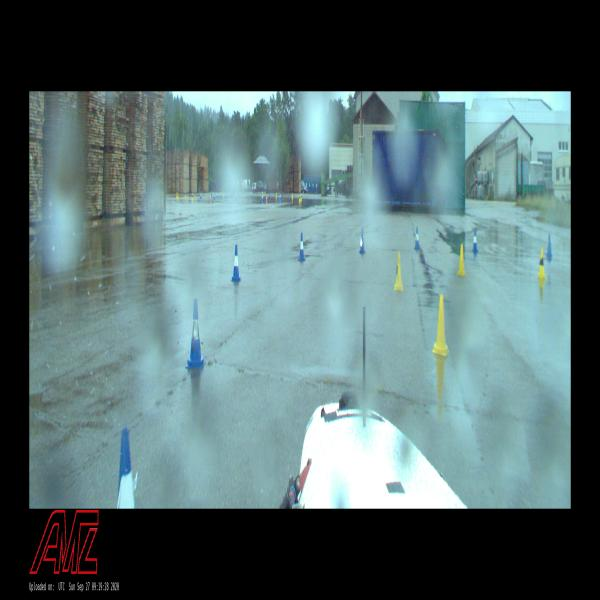blue_cone: (117, 425, 136, 509), (186, 298, 206, 370), (231, 244, 241, 283), (298, 232, 306, 262), (359, 228, 366, 255), (472, 229, 478, 254), (414, 227, 420, 251), (546, 233, 552, 257), (288, 194, 290, 203), (262, 194, 263, 202), (280, 192, 281, 200), (214, 193, 215, 200)
orange_cone: (266, 194, 268, 203), (210, 194, 212, 202)
yellow_cone: (432, 294, 450, 356), (394, 252, 404, 291), (456, 243, 466, 277), (537, 248, 546, 280), (192, 193, 194, 200), (299, 194, 301, 201), (177, 192, 179, 198), (292, 192, 293, 200), (301, 193, 302, 201), (276, 191, 277, 198), (185, 192, 186, 198)
